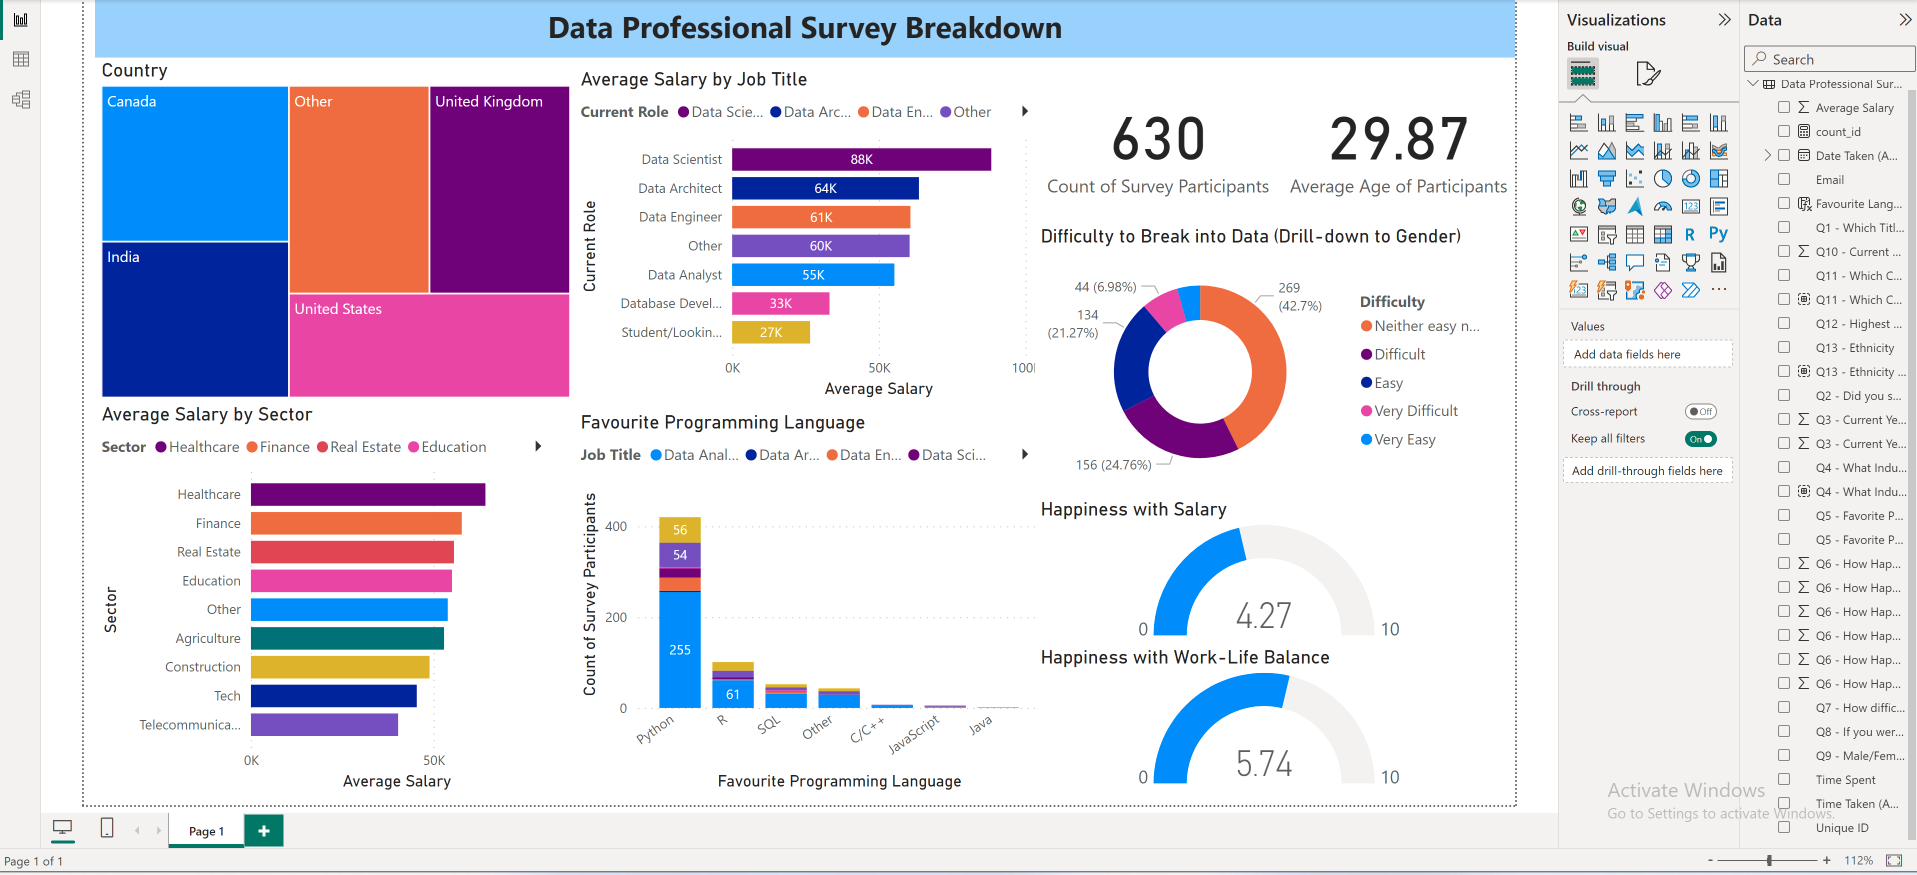

What the dashboard file says about the page in this screenshot:
{"tool":"powerbi","page":{"name":"Page 1","canvas":[1280,720],"ordinal":0},"visuals":[{"type":"textbox","box":[9.7,0,1270.3,51.6],"z":0},{"type":"barChart","title":"Average Salary by Sector","fields":{"Y":["Avg(Data Professional Survey.Average Salary)"],"Category":["Data Professional Survey.Q4 - What Industry do you work in? (groups)"],"Series":["Data Professional Survey.Q4 - What Industry do you work in? (groups)"]},"box":[10.5,360.2,415,350.9],"z":1000},{"type":"card","fields":{"Values":["Data Professional Survey.count_id"]},"box":[851,52.5,220.3,149.2],"z":2000},{"type":"card","fields":{"Values":["Avg(Data Professional Survey.Q10 - Current Age)"]},"box":[1071.3,52.5,208.7,149.2],"z":3000},{"type":"barChart","title":"Average Salary by Job Title","fields":{"Category":["Data Professional Survey.Q1 - Which Title Best Fits your Current Role?.1"],"Series":["Data Professional Survey.Q1 - Which Title Best Fits your Current Role?.1"],"Y":["Avg(Data Professional Survey.Average Salary)"]},"box":[439.5,60.6,422,299.6],"z":4000},{"type":"columnChart","title":"Favourite Programming Language","fields":{"Category":["Data Professional Survey.Favourite Language"],"Y":["Data Professional Survey.count_id"],"Series":["Data Professional Survey.Q1 - Which Title Best Fits your Current Role?.1"]},"box":[439.5,367.2,422,343.9],"z":5000},{"type":"treemap","title":"Country ","fields":{"Group":["Data Professional Survey.Q11 - Which Country do you live in? (groups)"],"Values":["Count(Data Professional Survey.Q11 - Which Country do you live in? (groups))"]},"box":[10.5,52.5,429,307.8],"z":6000},{"type":"gauge","title":"Happiness with Salary","fields":{"Y":["Avg(Data Professional Survey.Q6 - How Happy are you in your Current Position with the following? (Salary))"],"MinValue":["Min(Data Professional Survey.Q6 - How Happy are you in your Current Position with the following? (Salary))"],"MaxValue":["Max(Data Professional Survey.Q6 - How Happy are you in your Current Position with the following? (Salary))1"]},"box":[851,445.3,418.5,132.9],"z":7000},{"type":"gauge","title":"Happiness with Work-Life Balance","fields":{"Y":["Avg(Data Professional Survey.Q6 - How Happy are you in your Current Position with the following? (Work/Life Balance))"],"MinValue":["Min(Data Professional Survey.Q6 - How Happy are you in your Current Position with the following? (Work/Life Balance))"],"MaxValue":["Max(Data Professional Survey.Q6 - How Happy are you in your Current Position with the following? (Work/Life Balance))"]},"box":[851,578.2,418.5,132.9],"z":8000},{"type":"donutChart","title":"Difficulty to Break into Data (Drill-down to Gender)","fields":{"Category":["Data Professional Survey.Q7 - How difficult was it for you to break into Data?","Data Professional Survey.Q9 - Male/Female?"],"Y":["CountNonNull(Data Professional Survey.Q7 - How difficult was it for you to break into Data?)"]},"box":[851,201.7,418.5,243.6],"z":9000}]}

Visuals, with their boxes on the page's 1280x720 design canvas (x1, y1, x2, y2). These are canvas units, not pixel positions in the 1917x875 screenshot, which may show the page scaled, cropped or inside an application window:
textbox: x1=10, y1=0, x2=1280, y2=52
"Average Salary by Sector" barChart: x1=10, y1=360, x2=426, y2=711
card - Data Professional Survey.count_id: x1=851, y1=52, x2=1071, y2=202
card - Avg(Data Professional Survey.Q10 - Current Age): x1=1071, y1=52, x2=1280, y2=202
"Average Salary by Job Title" barChart: x1=440, y1=61, x2=862, y2=360
"Favourite Programming Language" columnChart: x1=440, y1=367, x2=862, y2=711
"Country " treemap: x1=10, y1=52, x2=440, y2=360
"Happiness with Salary" gauge: x1=851, y1=445, x2=1270, y2=578
"Happiness with Work-Life Balance" gauge: x1=851, y1=578, x2=1270, y2=711
"Difficulty to Break into Data (Drill-down to Gender)" donutChart: x1=851, y1=202, x2=1270, y2=445
